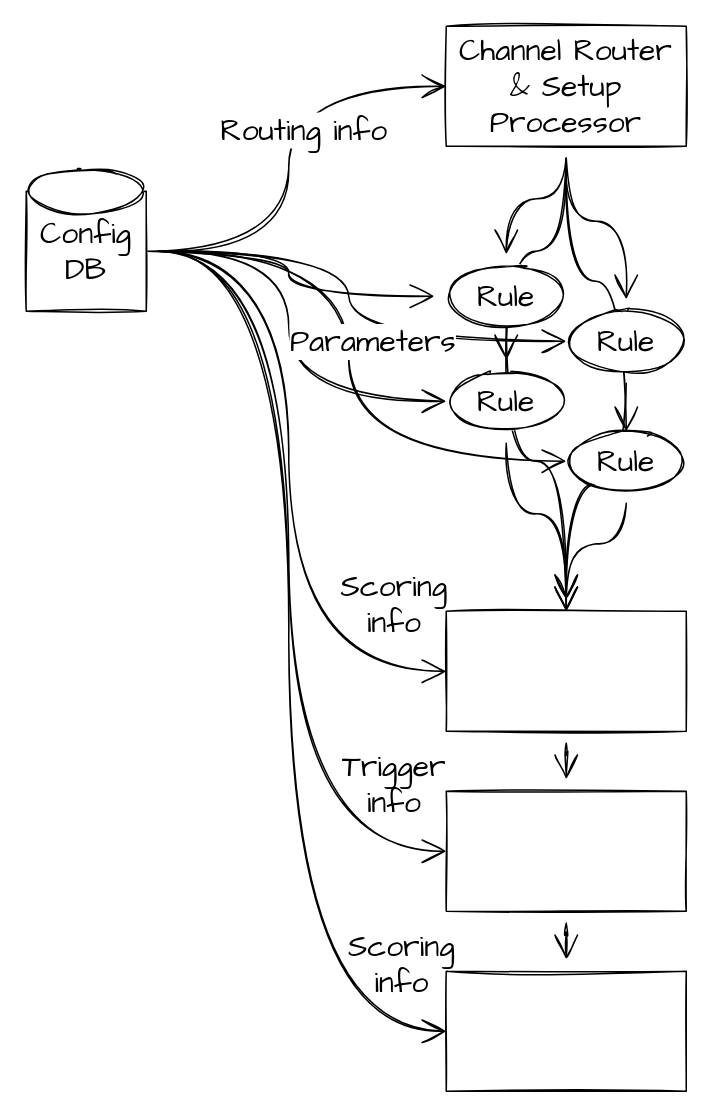
Image size: 713x1118. Some labels were removed from this diagram. The shapes that lost their labels are listed below. From the top down, each one's box as (x1, y1, x2, y2) in pixels, then its label:
(445, 610, 686, 731): Typology processor
(445, 790, 686, 911): Channel aggregation and decisioning
(445, 970, 686, 1091): Transaction aggregation and decisioning
